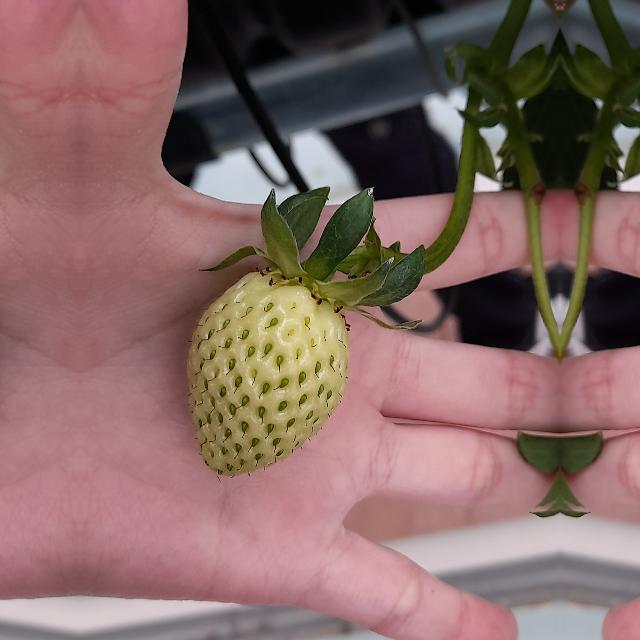Health_25: (188, 271, 348, 475)
